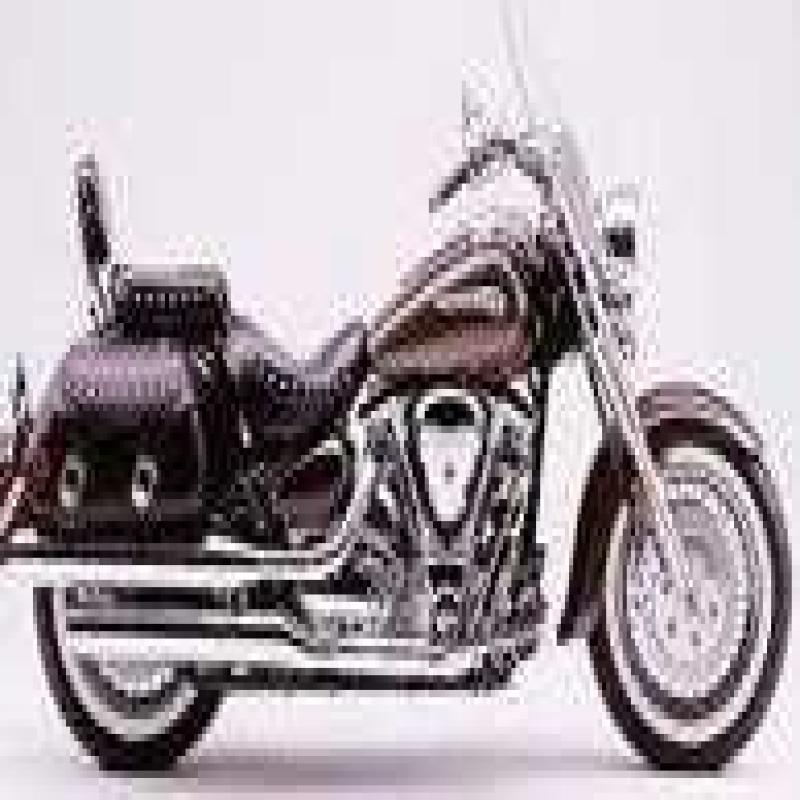bike: (1, 52, 800, 783)
